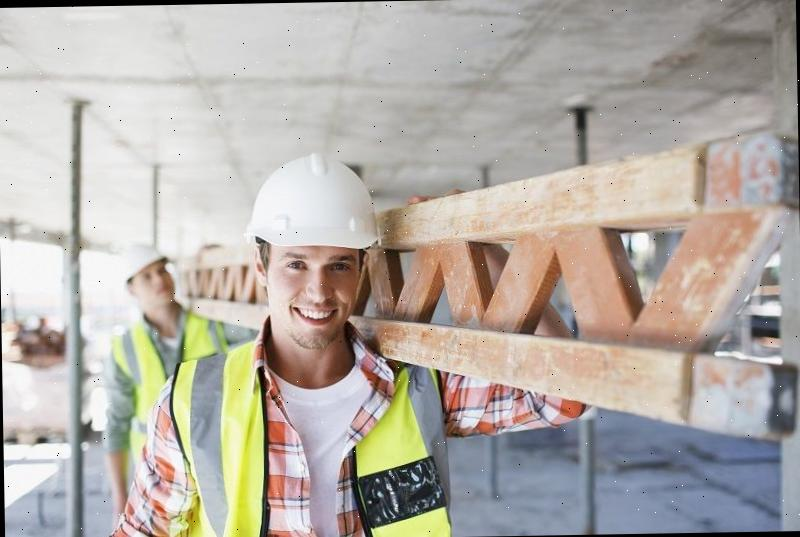helmet: (243, 146, 387, 254), (114, 241, 176, 284)
no_wear: (597, 124, 800, 409)
wear: (166, 353, 443, 537), (106, 321, 218, 381)
